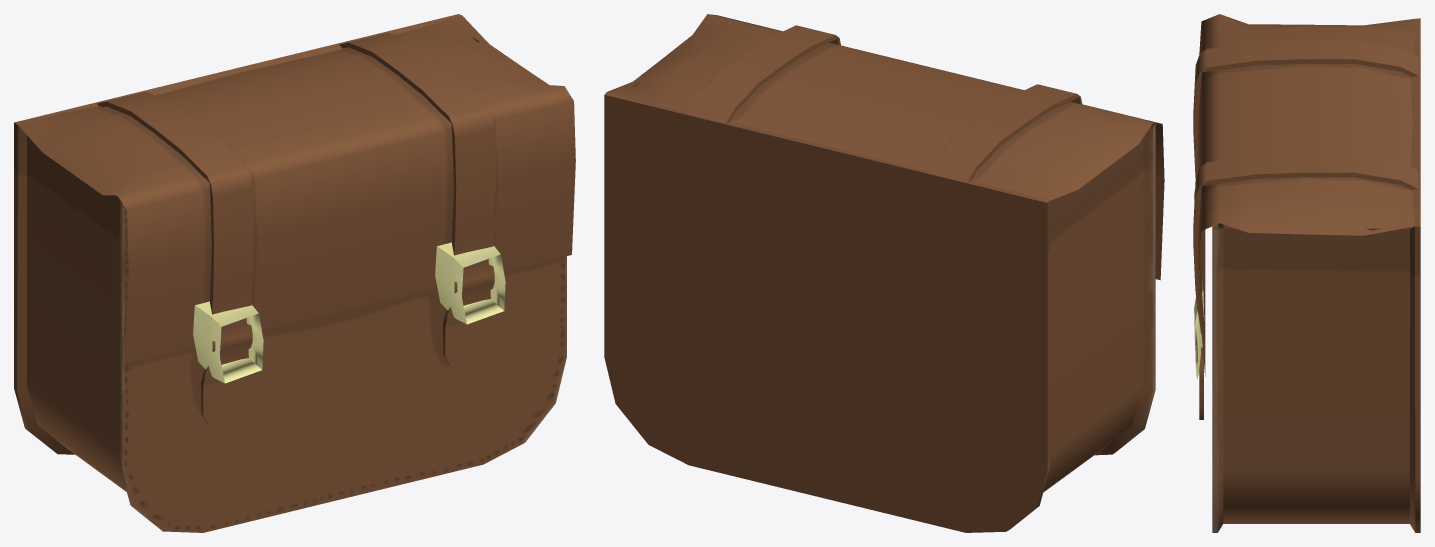
File: satchel.fbx
3 views of the same model, side by side, from view 1: azimuth 30°, elevation 25°; view 2: azimuth 150°, elevation 25°; view 3: azimuth 270°, elevation 25° (orthographic). The views are drawn at different scales.
Visible parts, largest first — view 1: Satchel, Satchel_Strap_Right, Satchel_Strap_Left, Satchel_Strap_Conn_Right, Satchel_Strap_Conn_Left; view 2: Satchel, Satchel_Strap_Left, Satchel_Strap_Right; view 3: Satchel, Satchel_Strap_Right, Satchel_Strap_Left, Satchel_Strap_Conn_Right.
Boxes of the visible parts, <box> form: Satchel: <box>14,14,575,532</box>; Satchel_Strap_Right: <box>339,33,500,369</box>; Satchel_Strap_Left: <box>97,92,258,428</box>; Satchel_Strap_Conn_Right: <box>435,242,505,324</box>; Satchel_Strap_Conn_Left: <box>193,301,263,383</box>; Satchel: <box>604,14,1164,532</box>; Satchel_Strap_Left: <box>928,84,1082,182</box>; Satchel_Strap_Right: <box>687,25,840,123</box>; Satchel: <box>1198,14,1420,532</box>; Satchel_Strap_Right: <box>1193,154,1418,419</box>; Satchel_Strap_Left: <box>1193,40,1418,177</box>; Satchel_Strap_Conn_Right: <box>1194,275,1204,379</box>.
Bounding box in the file's own units: 2.76 × 1.27 × 2.17.
Materials: 1 (1 with a texture image).
